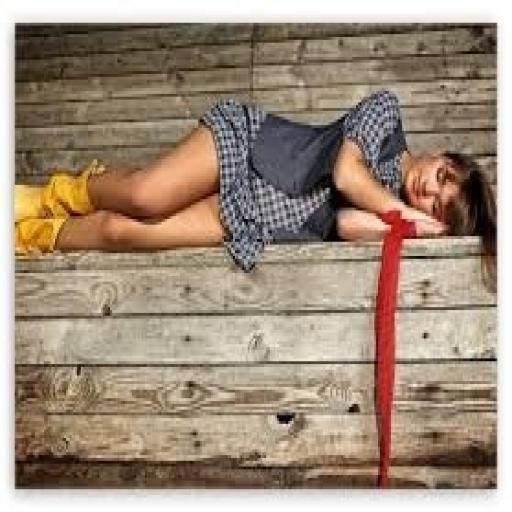sleeping: (14, 86, 496, 270)
